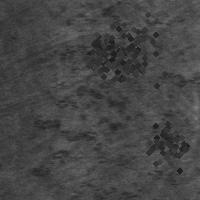rolled-in_scale: (32, 73, 140, 180), (79, 0, 181, 101), (146, 56, 197, 189), (46, 3, 152, 64), (136, 114, 194, 172), (88, 37, 146, 95), (76, 27, 124, 75)
